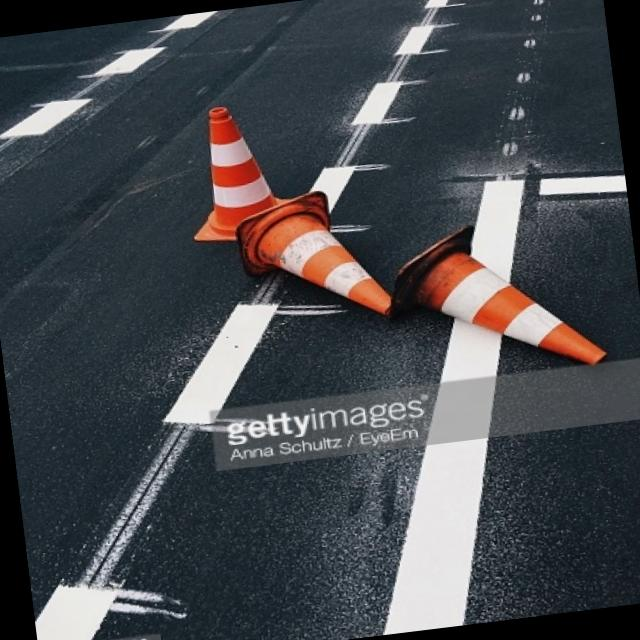cone: (387, 206, 632, 390), (146, 92, 320, 243), (209, 198, 398, 334)
